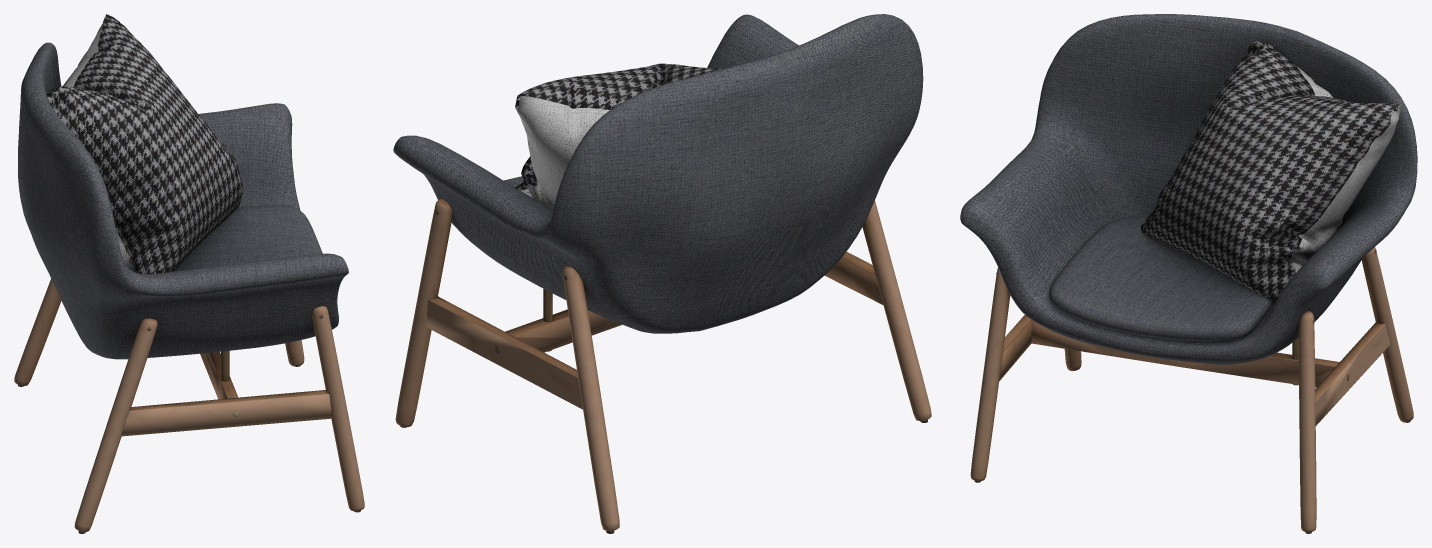
Rendered from modelo.glb.
The picture shows the model from 3 angles, left to right: view 1: azimuth 30°, elevation 25°; view 2: azimuth 150°, elevation 25°; view 3: azimuth 270°, elevation 25°; orthographic projection. The views are drawn at different scales.
Visible parts, largest first — view 1: Vedbo_Armchair, Cushion, Legs_Armchair, Cushion_Armchair; view 2: Vedbo_Armchair, Legs_Armchair, Cushion; view 3: Vedbo_Armchair, Cushion, Legs_Armchair, Cushion_Armchair.
Part boxes in pixels (bbox=[...]): Vedbo_Armchair: bbox=[18, 42, 348, 359]; Cushion: bbox=[46, 14, 243, 274]; Legs_Armchair: bbox=[14, 278, 364, 533]; Cushion_Armchair: bbox=[129, 205, 322, 271]; Vedbo_Armchair: bbox=[393, 14, 923, 333]; Legs_Armchair: bbox=[395, 198, 931, 533]; Cushion: bbox=[515, 63, 726, 209]; Vedbo_Armchair: bbox=[960, 14, 1417, 364]; Cushion: bbox=[1141, 40, 1399, 299]; Legs_Armchair: bbox=[970, 247, 1413, 533]; Cushion_Armchair: bbox=[1049, 216, 1275, 341].
Bounding box in the file's own units: 0.9842 × 1 × 1.12.
4 materials, 4 textured.
